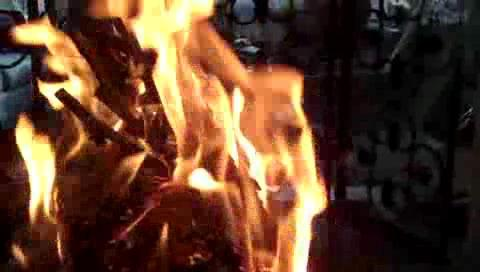fire: (13, 2, 318, 269)
